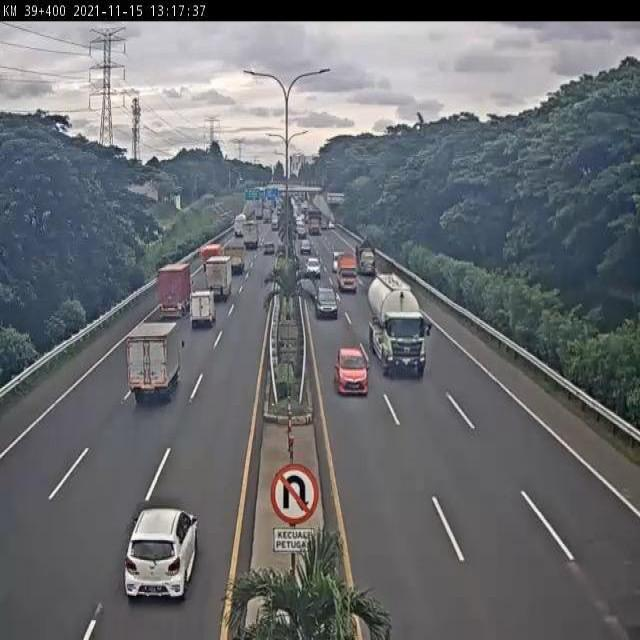car: (123, 509, 199, 600), (336, 345, 369, 399), (314, 288, 340, 321)
truck-l-: (369, 274, 430, 378)
truck-m-: (126, 324, 187, 405), (158, 265, 194, 320), (205, 257, 233, 300), (338, 253, 359, 296), (356, 239, 380, 276), (224, 242, 247, 278)
truck-s-: (189, 288, 219, 327)
